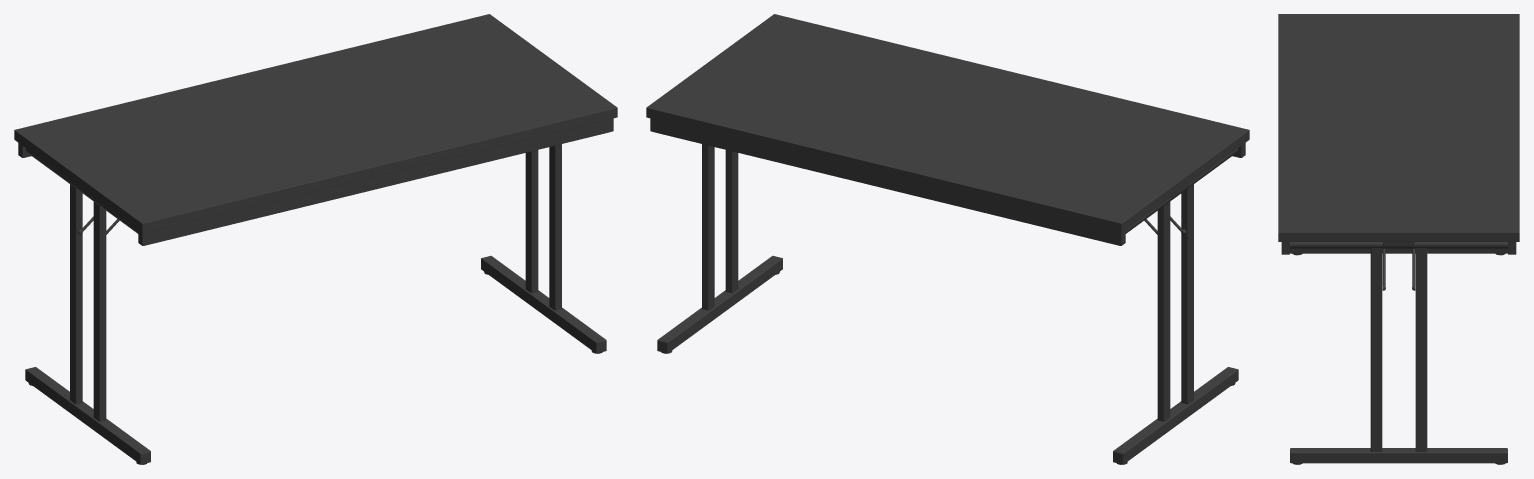
File: table.glb
3 renders of one model, left to right at view 1: azimuth 30°, elevation 25°; view 2: azimuth 150°, elevation 25°; view 3: azimuth 270°, elevation 25°, orthographic. The views are drawn at different scales.
Visible parts, largest first — view 1: Folding_Table_7kcg_Cylinder.045; view 2: Folding_Table_7kcg_Cylinder.045; view 3: Folding_Table_7kcg_Cylinder.045.
Part boxes in pixels (<box>): Folding_Table_7kcg_Cylinder.045: <box>14,14,617,464</box>; Folding_Table_7kcg_Cylinder.045: <box>646,14,1249,464</box>; Folding_Table_7kcg_Cylinder.045: <box>1278,14,1519,464</box>.
Bounding box in the file's own units: 1.5 × 0.7501 × 0.7.
Materials: 1 (1 with a texture image).
